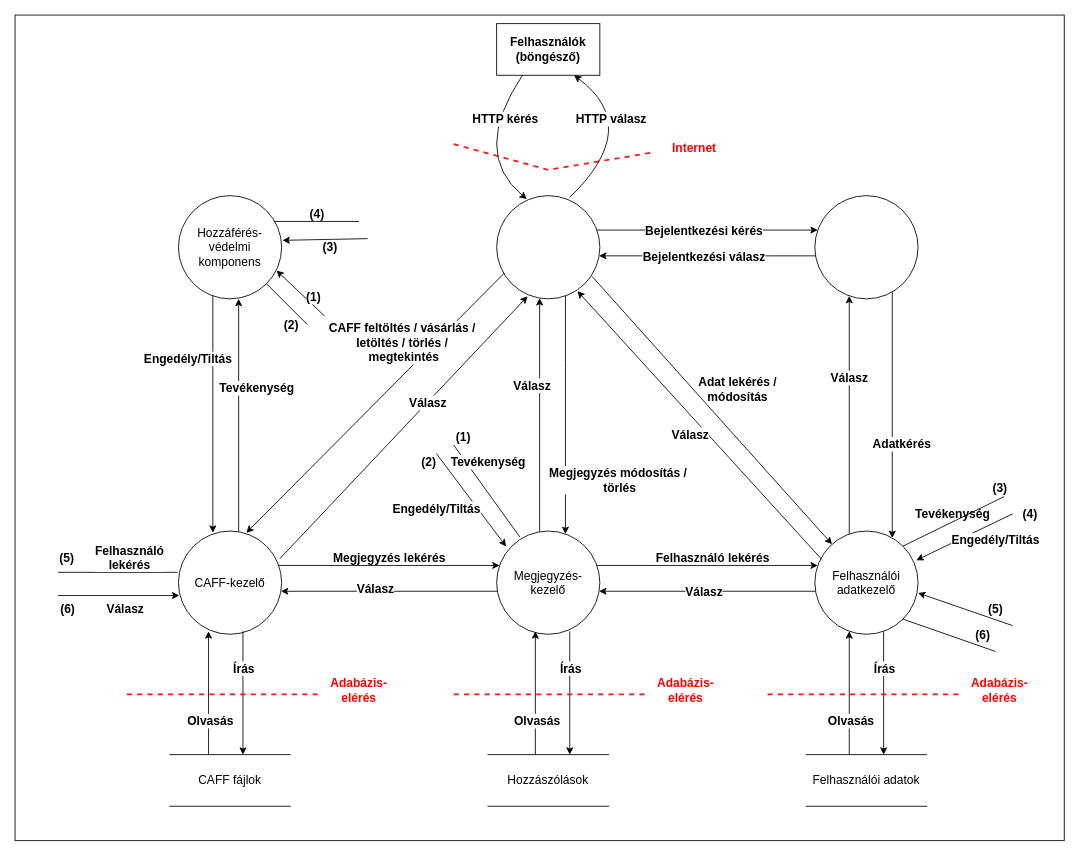
Image size: 1079x856. Some labels were removed from this diagram. The shapes that lost their labels are listed below. From the top down, each one's box as (x1, y1, x2, y2) in pixels, then its label:
(496, 195, 600, 299): Webszerver
(814, 195, 918, 299): Autentikációs komponens
